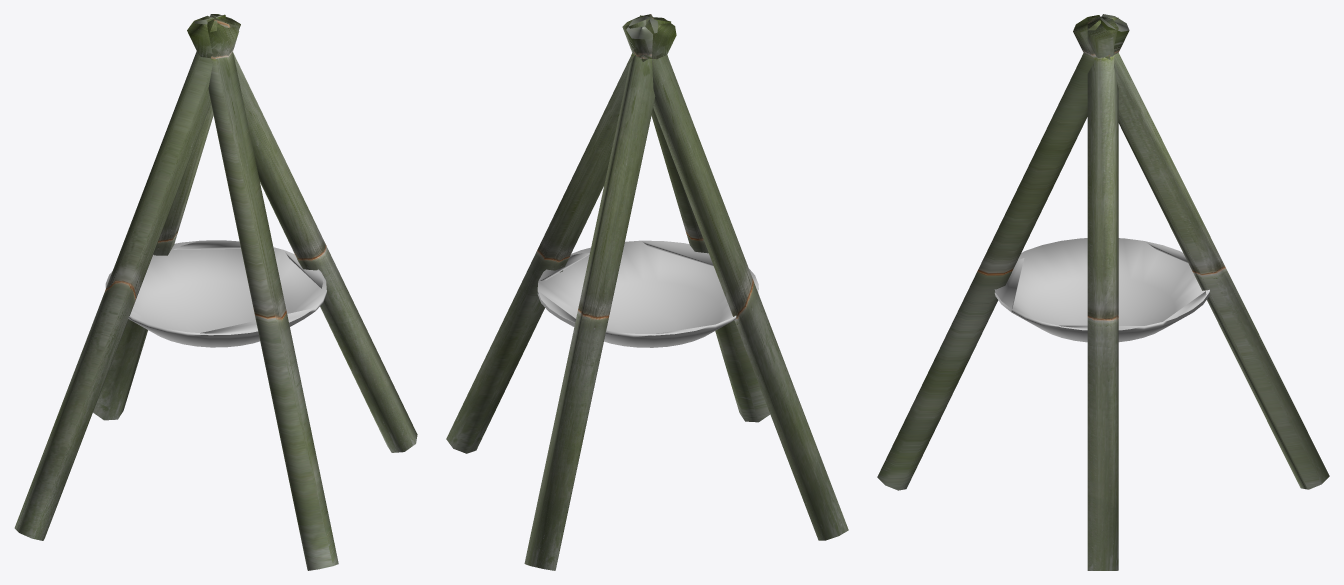
The model's file is paistopaikka1.fbx.
3 renders of one model, left to right at view 1: azimuth 30°, elevation 25°; view 2: azimuth 150°, elevation 25°; view 3: azimuth 270°, elevation 25°, orthographic.
Visible parts, largest first — view 1: Cylinder_003, Circle; view 2: Cylinder_003, Circle; view 3: Cylinder_003, Circle.
Boxes of the visible parts, x1,y1,x2,y2 form: Cylinder_003: (14,14,417,570); Circle: (105,240,326,347); Cylinder_003: (446,14,848,570); Circle: (537,240,758,347); Cylinder_003: (877,14,1329,570); Circle: (994,238,1209,342).
Size of the model in its own units: 5.29 by 6.07 by 5.29.
